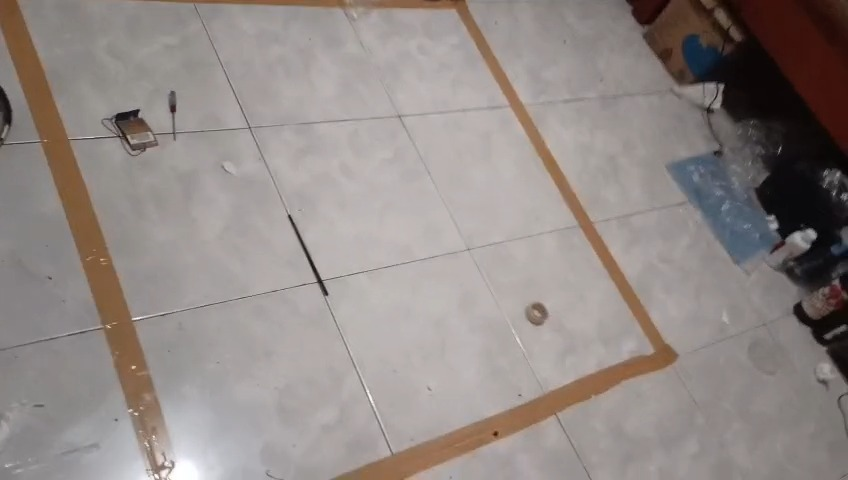floor marking: (339, 0, 677, 479), (0, 0, 178, 479), (197, 0, 348, 6)
